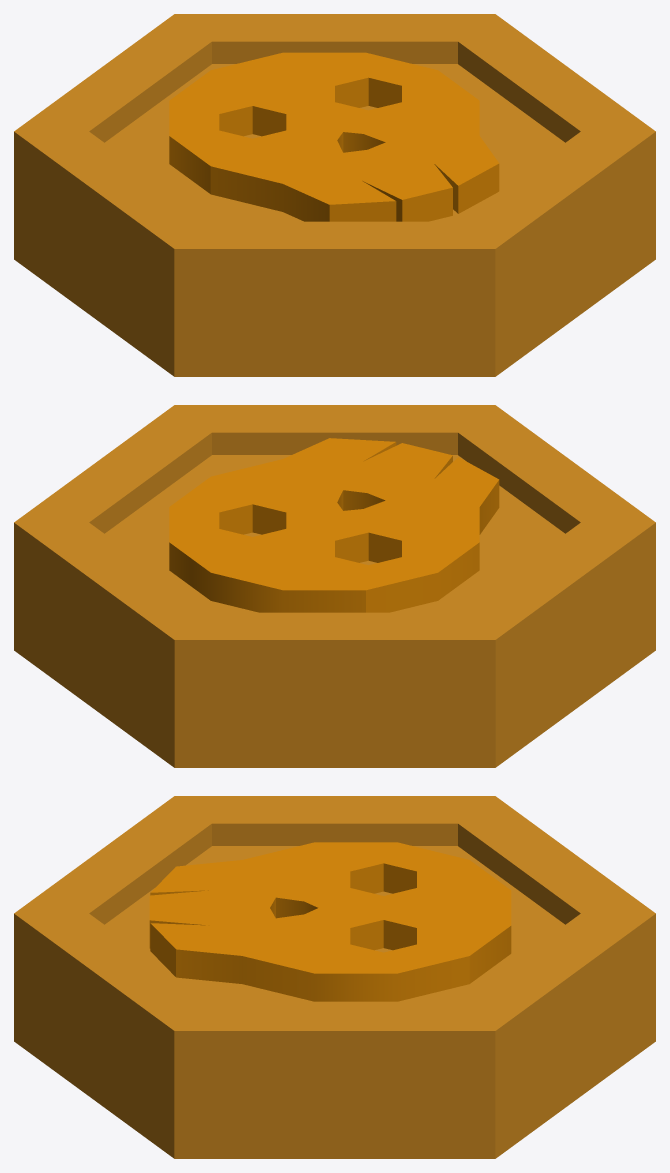
File: Coin_03.fbx
The picture shows the model from 3 angles, top to bottom: view 1: azimuth 30°, elevation 25°; view 2: azimuth 150°, elevation 25°; view 3: azimuth 270°, elevation 25°; orthographic projection.
Visible parts, largest first — view 1: Coin_03_LOD0; view 2: Coin_03_LOD0; view 3: Coin_03_LOD0.
Part boxes in pixels (x1,y1,x2,y2): Coin_03_LOD0: (14,14,655,376); Coin_03_LOD0: (14,405,655,767); Coin_03_LOD0: (14,796,655,1158).
Size of what is drawn, in the model's own units: 0.0785 by 0.0217 by 0.0907.
